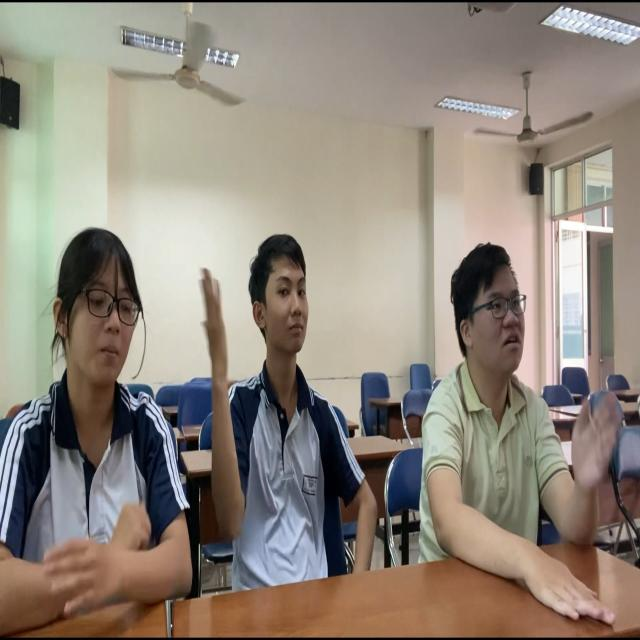raise_hand: (191, 223, 353, 584)
